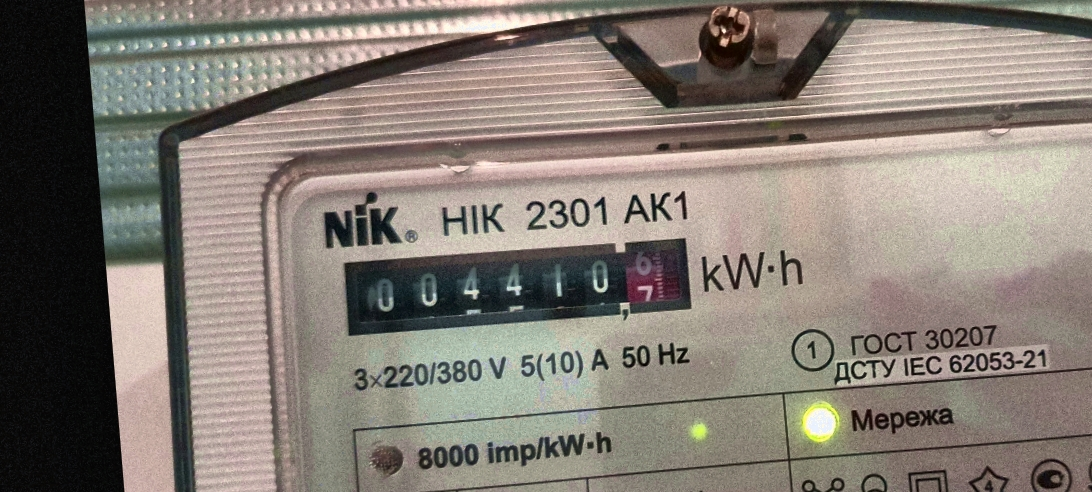0: (372, 273, 396, 313), (417, 268, 438, 308), (588, 257, 610, 294)
1: (548, 260, 565, 298)
4: (500, 259, 525, 299), (457, 262, 482, 301)
6: (634, 248, 653, 276)
7: (634, 281, 654, 302)
screen: (330, 220, 704, 349)
